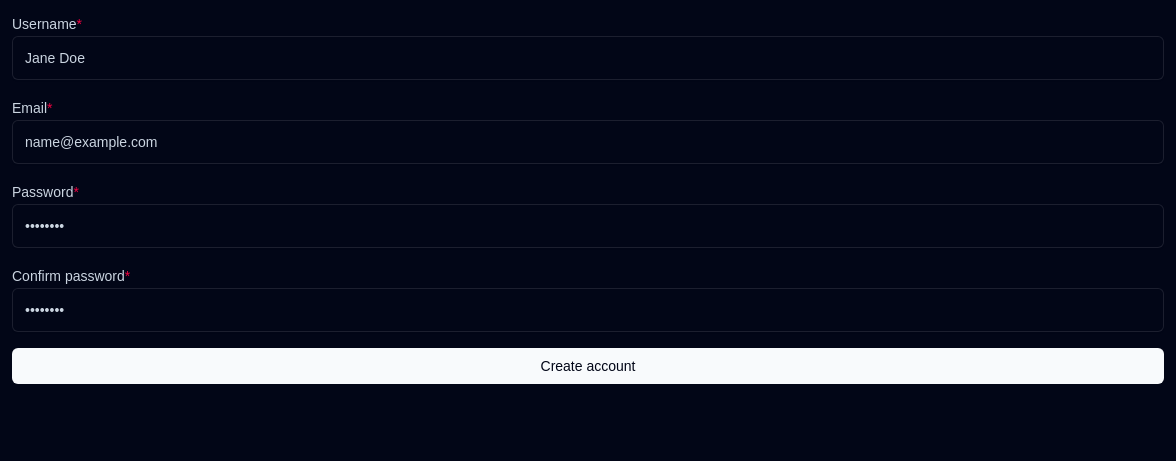
Test: shows validation error when passwords do not match
The image size is (1176, 461).
Type "Jane" into the field labelled "Username*" at (588, 58), box [12,36,1164,80]
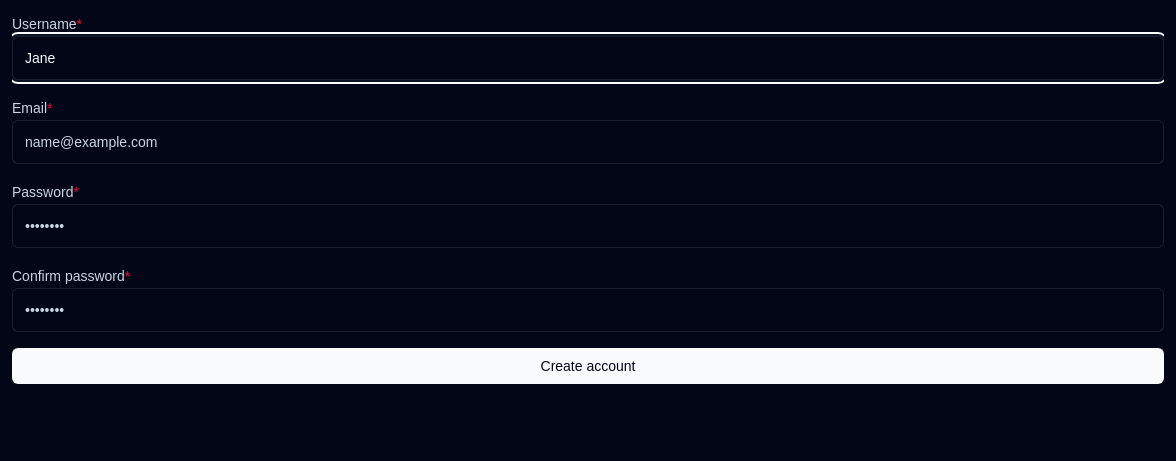
Type "jane@example.com" into the field labelled "Email*" at (588, 142), box [12,120,1164,164]
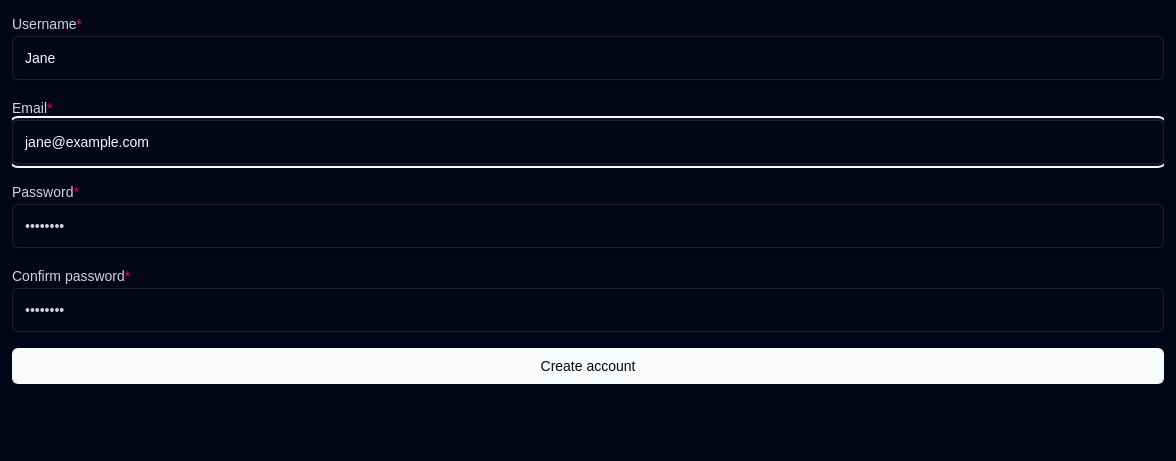
Type "secure-password" into the password field labelled "Password*" at (588, 226), box [12,204,1164,248]
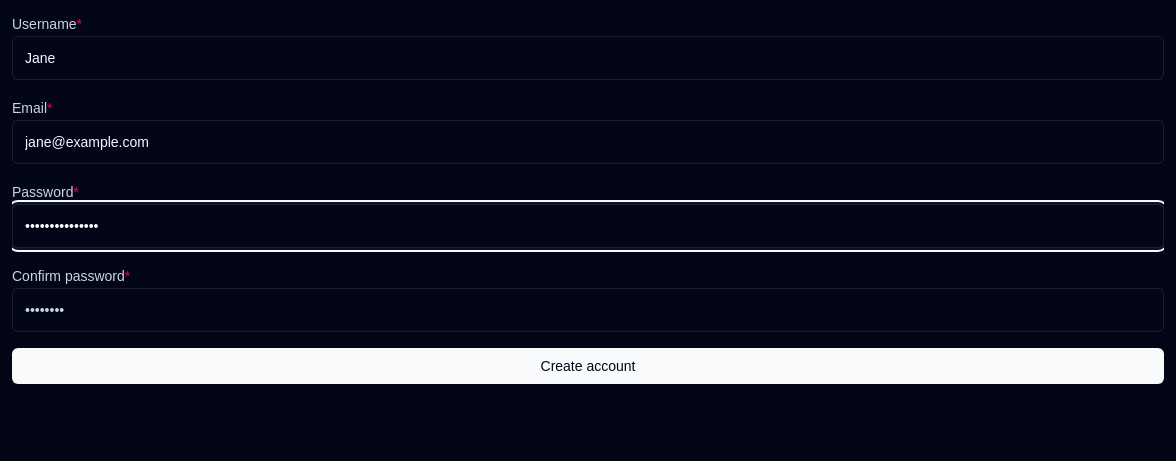
Type "mismatch-password" into the password field labelled "Confirm password*" at (588, 310), box [12,288,1164,332]
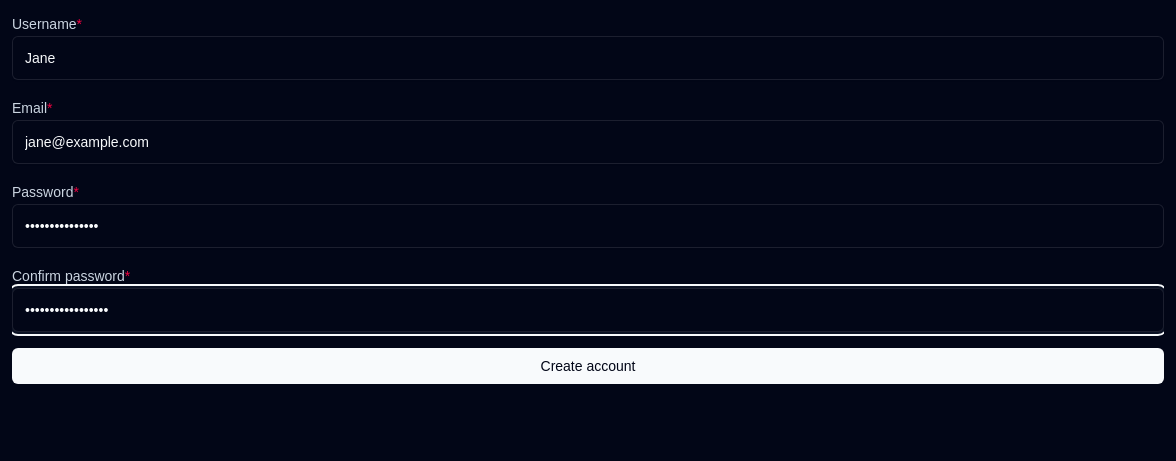
Click the button "Create account" at (588, 366), box [12,348,1164,384]
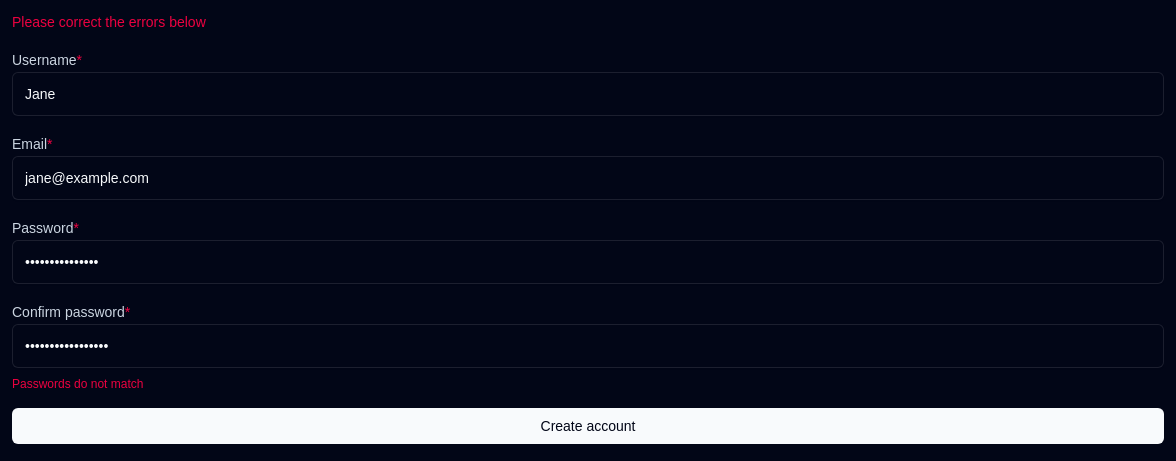
Check: the text "Passwords do not match" is shown, box [12,377,143,391]
